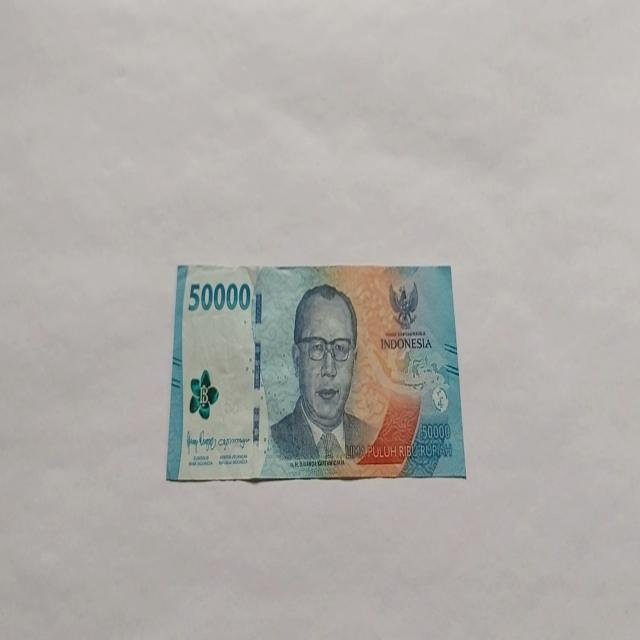lima puluh ribu rupiah: (166, 262, 467, 484), (266, 282, 380, 470)
